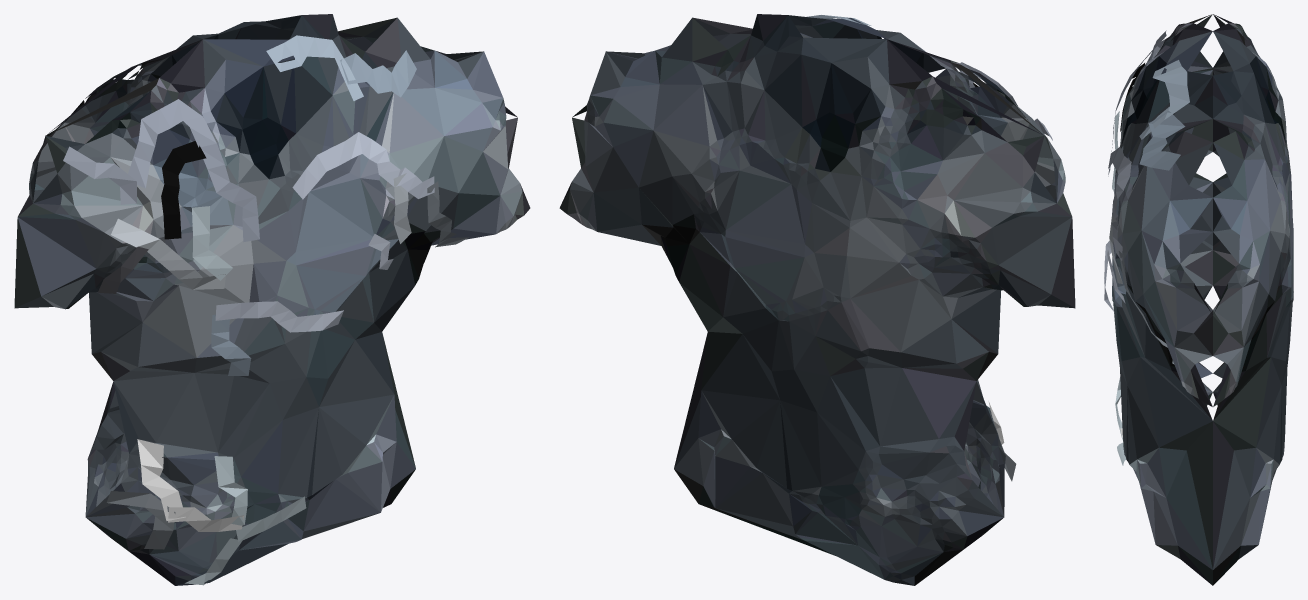
The picture shows the model from 3 angles, left to right: view 1: azimuth 30°, elevation 25°; view 2: azimuth 150°, elevation 25°; view 3: azimuth 270°, elevation 25°; orthographic projection. The views are drawn at different scales.
Parts seen in each view (by area): view 1: object 2, detail; view 2: object 2, detail; view 3: object 2, detail.
Boxes of the visible parts, x1,y1,x2,y2 form: object 2: (14, 14, 530, 585); detail: (63, 35, 468, 585); object 2: (559, 14, 1075, 585); detail: (807, 15, 1052, 481); object 2: (1112, 14, 1293, 585); detail: (1104, 30, 1189, 465).
Bounding box in the file's own units: 167 × 167 × 57.78.
